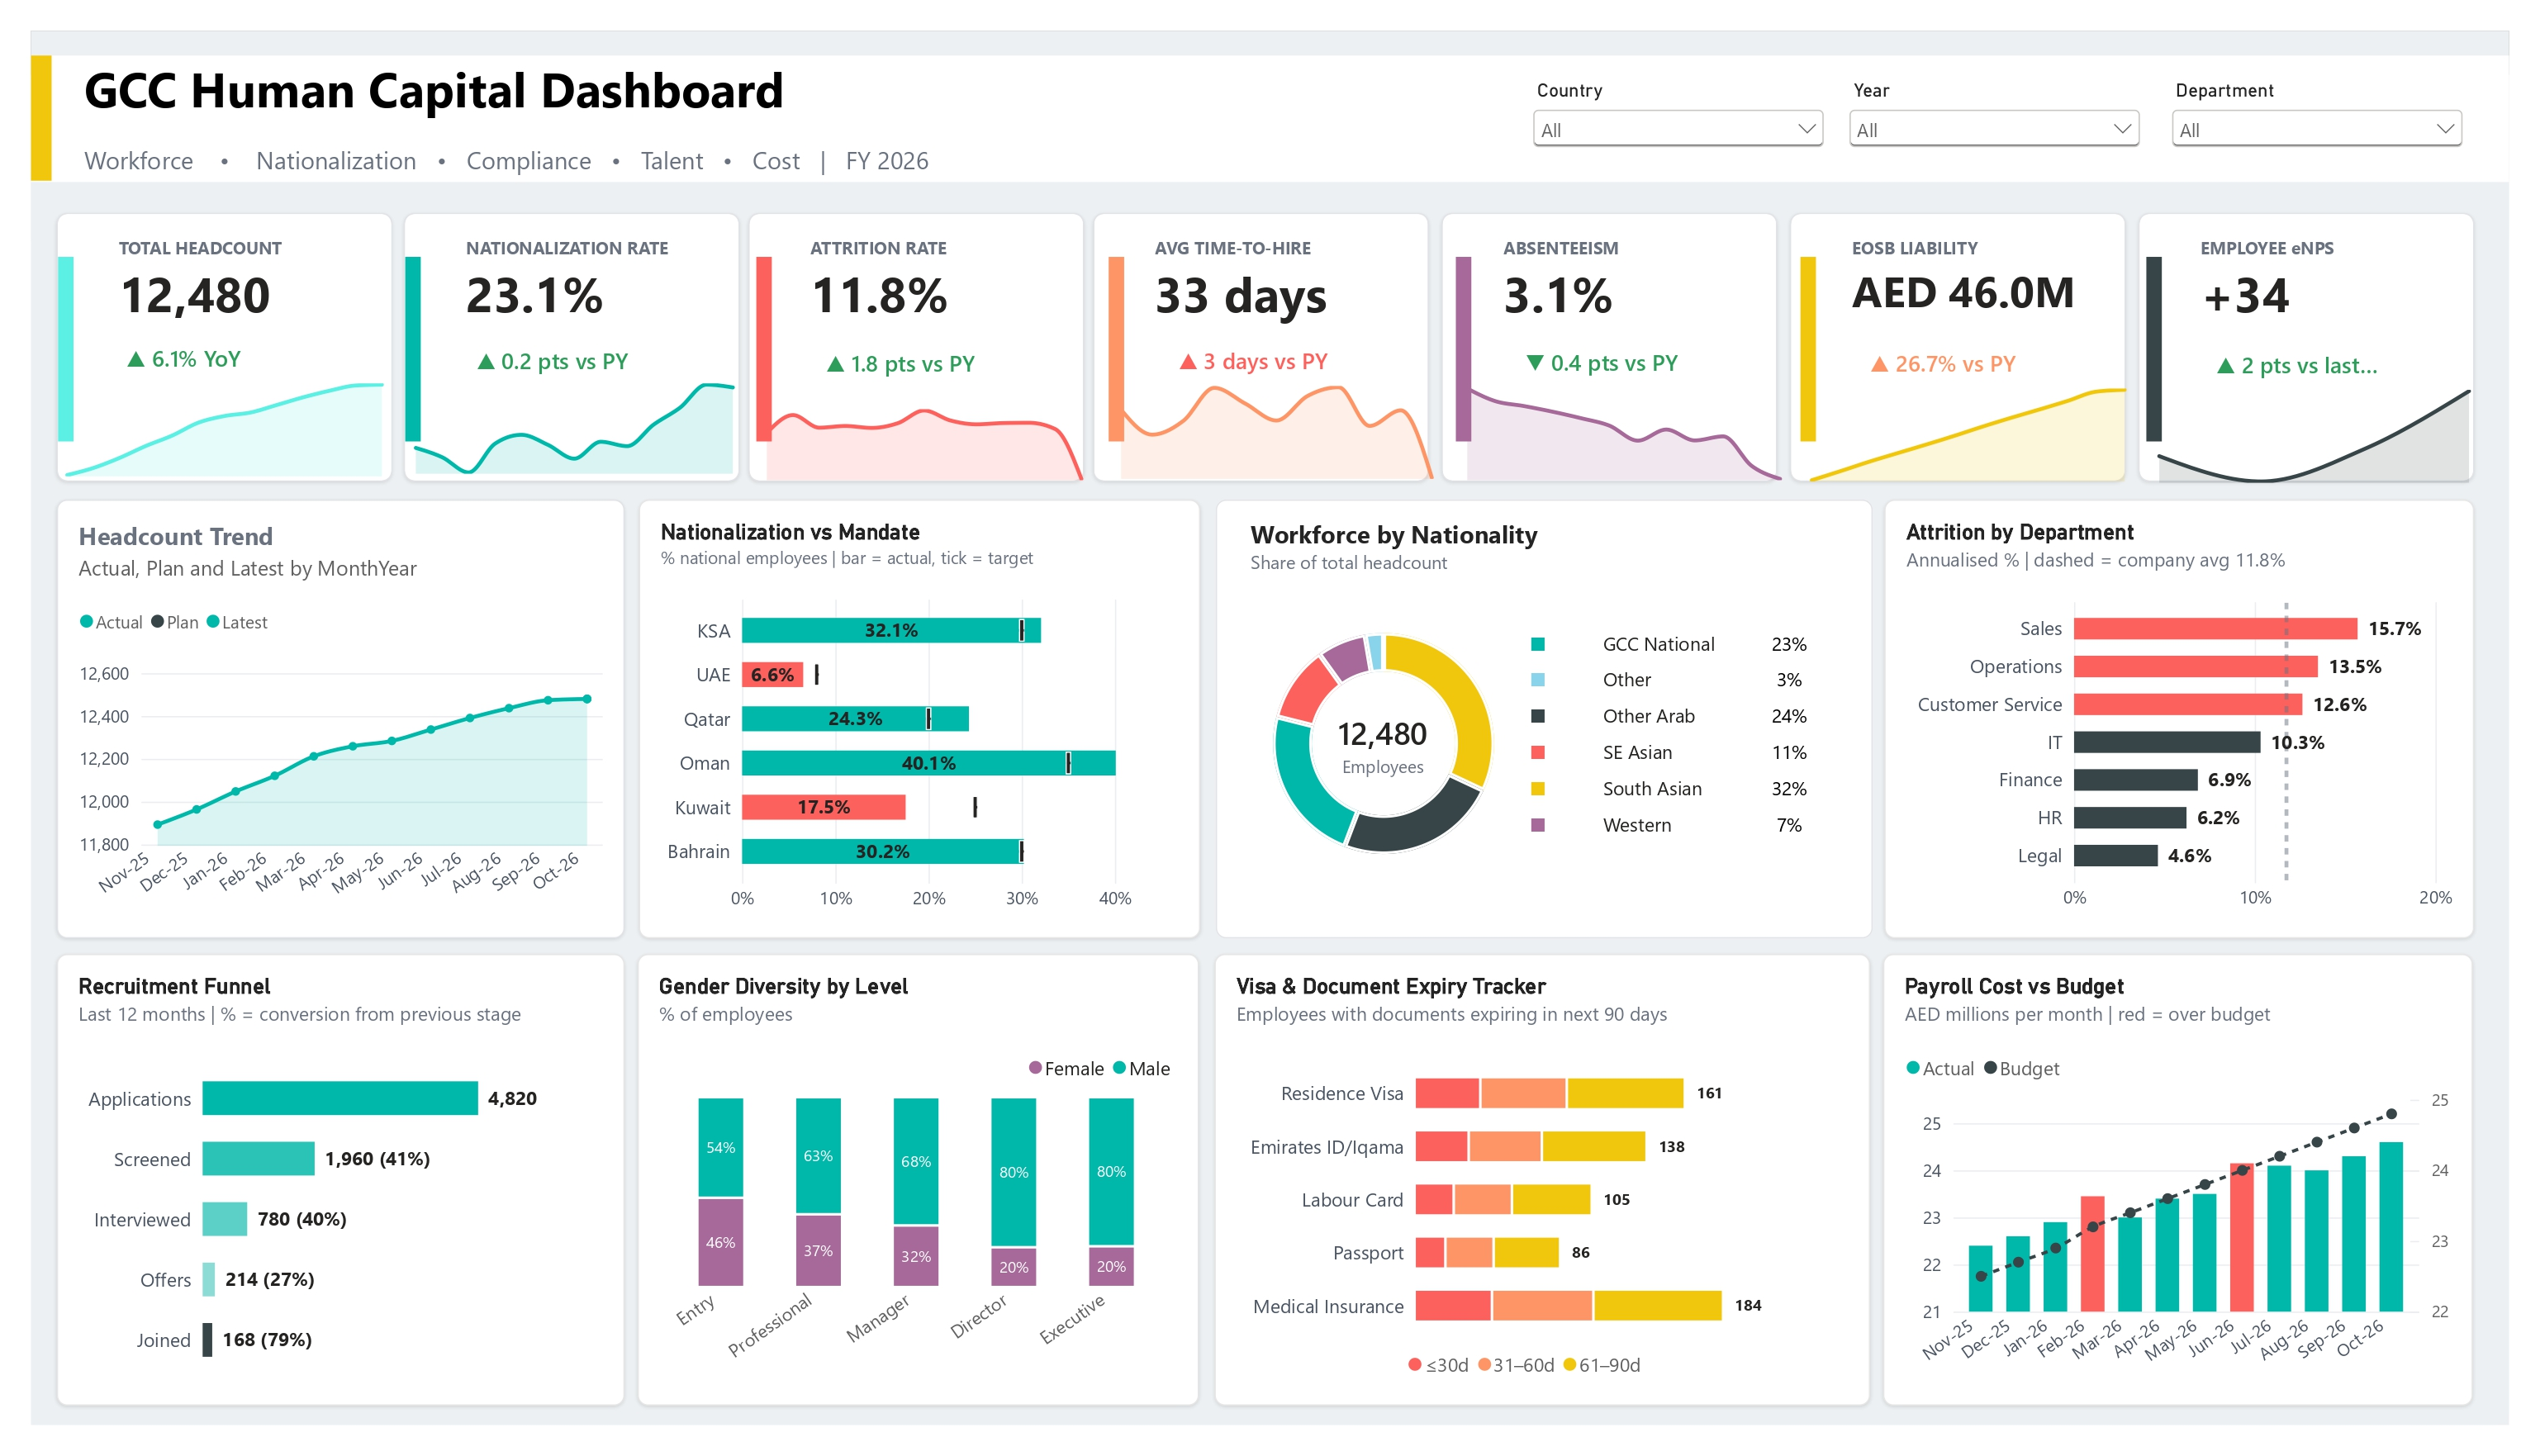

Layout of this report page (visuals, bound fields, positions):
{"tool":"powerbi","page":{"name":"Page 1","canvas":[1920,1080],"ordinal":0},"visuals":[{"type":"shape","box":[0,18.9,1920,98],"z":0},{"type":"shape","box":[0,18.9,16,97.4],"z":1000},{"type":"textbox","title":"GCC Human Capital Dashboard","box":[40.7,18.9,754.6,97.4],"z":2000},{"type":"slicer","fields":{"Values":["Dim_Country.Country"]},"box":[1158.8,37.8,235,60],"z":3000,"group":"g9"},{"type":"slicer","fields":{"Values":["Dim_Date.Year"]},"box":[1403.8,37.8,235,60],"z":4000,"group":"g9"},{"type":"slicer","fields":{"Values":["Dim_Department.Department"]},"box":[1653.8,37.8,235,60],"z":5000,"group":"g9"},{"type":"cardVisual","fields":{"Data":["_Measures.Headcount Text"]},"box":[20.1,140.5,260,208],"z":6000,"group":"g2"},{"type":"cardVisual","fields":{"Data":["_Measures.Attrition %"]},"box":[556.3,140.5,260,208],"z":6000,"group":"g4"},{"type":"cardVisual","fields":{"Data":["_Measures.eNPS Text"]},"box":[1633.3,140.5,260,208],"z":6000,"group":"g8"},{"type":"areaChart","title":"Headcount Trend","fields":{"Category":["Dim_Date.MonthYear"],"Y":["_Measures.Headcount","_Measures.Plan Headcount","_Measures.Headcount Last Label"]},"box":[20,362.6,440,340],"z":6000},{"type":"shape","box":[20.7,174.5,12,143.3],"z":7000,"group":"g2"},{"type":"shape","box":[562.3,174.5,12,143],"z":7000,"group":"g4"},{"type":"shape","box":[1639.6,174.5,12,143],"z":7000,"group":"g8"},{"type":"clusteredBarChart","title":"Nationalization vs Mandate","fields":{"Category":["Dim_Country.Country"],"Y":["_Measures.Nationalization %"]},"box":[471.2,362.6,435,340],"z":7000},{"type":"areaChart","fields":{"Category":["Dim_Date.MonthYear"],"Y":["_Measures.Headcount"]},"box":[20.1,264.6,260,80],"z":8000,"group":"g2"},{"type":"areaChart","fields":{"Category":["eNPS.SurveyDate.Variation.Date Hierarchy.Year","eNPS.SurveyDate.Variation.Date Hierarchy.Quarter","eNPS.SurveyDate.Variation.Date Hierarchy.Month","eNPS.SurveyDate.Variation.Date Hierarchy.Day"],"Y":["_Measures.eNPS Trend"]},"box":[1639.6,269.3,260,80],"z":8000,"group":"g8"},{"type":"areaChart","fields":{"Category":["Dim_Date.MonthYear"],"Y":["_Measures.Monthly Attrition %"]},"box":[562.3,284.5,260,63.3],"z":8000,"group":"g4"},{"type":"group","id":"g1","title":"Group 1","box":[917.8,362.6,518.3,340],"z":8000},{"type":"cardVisual","fields":{"Data":["_Measures.Headcount YoY Label"]},"box":[54.1,238.6,146,30],"z":9000,"group":"g2"},{"type":"cardVisual","fields":{"Data":["_Measures.Attrition Delta Label"]},"box":[596.5,242.4,146,30],"z":9000,"group":"g4"},{"type":"cardVisual","fields":{"Data":["_Measures.eNPS Delta Label"]},"box":[1673.6,243.3,146,30],"z":9000,"group":"g8"},{"type":"clusteredBarChart","title":"Attrition by Department","fields":{"Category":["Dim_Department.Department"],"Y":["_Measures.Attrition %"]},"box":[1436.2,362.6,456.7,340],"z":9000},{"type":"cardVisual","title":"NATIONALIZATION RATE","fields":{"Data":["_Measures.Nationalization %"]},"box":[289.3,140.5,260,208],"z":10000,"group":"g3"},{"type":"cardVisual","fields":{"Data":["_Measures.Avg Time to Hire Text"]},"box":[823.3,140.5,260,208],"z":10000,"group":"g5"},{"type":"clusteredBarChart","title":"Recruitment Funnel","fields":{"Category":["Dim_Stage.Stage"],"Y":["_Measures.Funnel Count"]},"box":[20,714.9,440,350],"z":10000},{"type":"shape","box":[835.4,174.5,12,143],"z":11000,"group":"g5"},{"type":"areaChart","fields":{"Category":["Dim_Date.MonthYear"],"Y":["_Measures.Nationalization %"]},"box":[290.6,264.5,261.7,78.3],"z":11000,"group":"g3"},{"type":"columnChart","title":"Gender Diversity by Level","fields":{"Category":["Dim_JobLevel.JobLevel"],"Series":["Employees.Gender"],"Y":["_Measures.Gender Share %"]},"box":[470,714.9,435,350],"z":11000},{"type":"cardVisual","fields":{"Data":["_Measures.Nationalization Delta Label"]},"box":[324.9,240.6,146,30],"z":12000,"group":"g3"},{"type":"areaChart","fields":{"Category":["Dim_Date.MonthYear"],"Y":["_Measures.Avg Time to Hire"]},"box":[835.4,266.6,260,80],"z":12000,"group":"g5"},{"type":"barChart","title":"Visa & Document Expiry Tracker","fields":{"Category":["Doc_Expiry.DocName"],"Y":["_Measures.Exp 30d","_Measures.Exp 60d","_Measures.Exp 90d","_Measures.Exp Total"]},"box":[916.7,714.9,508.3,350],"z":12000},{"type":"cardVisual","fields":{"Data":["_Measures.Time to Hire Delta Label"]},"box":[869.4,240.6,146,30],"z":13000,"group":"g5"},{"type":"lineClusteredColumnComboChart","title":"Payroll Cost vs Budget","fields":{"Category":["Dim_Date.MonthYear"],"Y":["_Measures.Actual Payroll (AED M)"],"Y2":["_Measures.Budget Payroll (AED M)"]},"box":[1435,714.9,457,350],"z":13000},{"type":"group","id":"g2","title":"Group 2","box":[20.1,140.5,260,208],"z":14000},{"type":"cardVisual","fields":{"Data":["_Measures.Absenteeism %"]},"box":[1093.3,140.5,260,208],"z":14000,"group":"g6"},{"type":"group","id":"g3","title":"Group 3","box":[289.3,140.5,263,208],"z":15000},{"type":"shape","box":[1103.9,174.5,12,143],"z":15000,"group":"g6"},{"type":"group","id":"g4","title":"Group 4","box":[556.3,140.5,266,208],"z":16000},{"type":"areaChart","fields":{"Category":["Dim_Date.MonthYear"],"Y":["_Measures.Absenteeism %"]},"box":[1103.9,267.5,260,80],"z":16000,"group":"g6"},{"type":"group","id":"g5","title":"Group 5","box":[823.3,140.5,272.1,208],"z":17000},{"type":"cardVisual","fields":{"Data":["_Measures.Absenteeism Delta Label"]},"box":[1137.9,241.5,146,30],"z":17000,"group":"g6"},{"type":"group","id":"g6","title":"Group 6","box":[1093.3,140.5,270.6,208],"z":18000},{"type":"cardVisual","fields":{"Data":["_Measures.EOSB Text"]},"box":[1363.3,140.5,260,208],"z":18000,"group":"g7"},{"type":"group","id":"g7","title":"Group 7","box":[1363.3,140.5,268.1,208],"z":19000},{"type":"shape","box":[1371.4,174.5,12,143],"z":19000,"group":"g7"},{"type":"group","id":"g8","title":"Group 8","box":[1633.3,140.5,266.3,208.8],"z":20000},{"type":"areaChart","fields":{"Category":["Dim_Date.MonthYear"],"Y":["_Measures.EOSB Trend (AED M)"]},"box":[1371.4,268.4,260,80],"z":20000,"group":"g7"},{"type":"group","id":"g9","title":"Group 9","box":[1158.8,37.8,729.9,59.6],"z":20001},{"type":"cardVisual","fields":{"Data":["_Measures.EOSB Delta Label"]},"box":[1405.4,242.4,146,30],"z":21000,"group":"g7"},{"type":"shape","box":[290.6,174.5,12,143.3],"z":33000,"group":"g3"},{"type":"shape","box":[917.8,362.6,508.6,340.1],"z":36000,"group":"g1"},{"type":"textbox","title":"Workforce by Nationality","box":[944.3,376.7,243.7,74.3],"z":37000,"group":"g1"},{"type":"donutChart","fields":{"Category":["Employees.NationalityGroup"],"Y":["_Measures.Headcount"]},"box":[924.5,402.4,246.5,300],"z":38000,"group":"g1"},{"type":"cardVisual","fields":{"Data":["_Measures.Headcount Text"]},"box":[986.8,522.4,121.8,60],"z":39000,"group":"g1"},{"type":"tableEx","fields":{"Values":["_Measures.Nat Bullet","Employees.NationalityGroup","_Measures.Nationality Share %"]},"box":[1139.2,416.7,295.8,242.4],"z":40000,"group":"g1"}]}

Visuals, with their boxes on the page's 1920x1080 design canvas (x1, y1, x2, y2). These are canvas units, not pixel positions in the 2540x1456 screenshot, which may show the page scaled, cropped or inside an application window:
shape: left=0, top=19, right=1920, bottom=117
shape: left=0, top=19, right=16, bottom=116
"GCC Human Capital Dashboard" textbox: left=41, top=19, right=795, bottom=116
slicer - Dim_Country.Country: left=1159, top=38, right=1394, bottom=98
slicer - Dim_Date.Year: left=1404, top=38, right=1639, bottom=98
slicer - Dim_Department.Department: left=1654, top=38, right=1889, bottom=98
cardVisual - _Measures.Headcount Text: left=20, top=140, right=280, bottom=348
cardVisual - _Measures.Attrition %: left=556, top=140, right=816, bottom=348
cardVisual - _Measures.eNPS Text: left=1633, top=140, right=1893, bottom=348
"Headcount Trend" areaChart: left=20, top=363, right=460, bottom=703
shape: left=21, top=174, right=33, bottom=318
shape: left=562, top=174, right=574, bottom=318
shape: left=1640, top=174, right=1652, bottom=318
"Nationalization vs Mandate" clusteredBarChart: left=471, top=363, right=906, bottom=703
areaChart - Dim_Date.MonthYear x _Measures.Headcount: left=20, top=265, right=280, bottom=345
areaChart - eNPS.SurveyDate.Variation.Date Hierarchy.Year x eNPS.SurveyDate.Variation.Date Hierarchy.Quarter: left=1640, top=269, right=1900, bottom=349
areaChart - Dim_Date.MonthYear x _Measures.Monthly Attrition %: left=562, top=284, right=822, bottom=348
"Group 1" group: left=918, top=363, right=1436, bottom=703
cardVisual - _Measures.Headcount YoY Label: left=54, top=239, right=200, bottom=269
cardVisual - _Measures.Attrition Delta Label: left=596, top=242, right=742, bottom=272
cardVisual - _Measures.eNPS Delta Label: left=1674, top=243, right=1820, bottom=273
"Attrition by Department" clusteredBarChart: left=1436, top=363, right=1893, bottom=703
"NATIONALIZATION RATE" cardVisual: left=289, top=140, right=549, bottom=348
cardVisual - _Measures.Avg Time to Hire Text: left=823, top=140, right=1083, bottom=348
"Recruitment Funnel" clusteredBarChart: left=20, top=715, right=460, bottom=1065
shape: left=835, top=174, right=847, bottom=318
areaChart - Dim_Date.MonthYear x _Measures.Nationalization %: left=291, top=264, right=552, bottom=343
"Gender Diversity by Level" columnChart: left=470, top=715, right=905, bottom=1065
cardVisual - _Measures.Nationalization Delta Label: left=325, top=241, right=471, bottom=271
areaChart - Dim_Date.MonthYear x _Measures.Avg Time to Hire: left=835, top=267, right=1095, bottom=347
"Visa & Document Expiry Tracker" barChart: left=917, top=715, right=1425, bottom=1065
cardVisual - _Measures.Time to Hire Delta Label: left=869, top=241, right=1015, bottom=271
"Payroll Cost vs Budget" lineClusteredColumnComboChart: left=1435, top=715, right=1892, bottom=1065
"Group 2" group: left=20, top=140, right=280, bottom=348
cardVisual - _Measures.Absenteeism %: left=1093, top=140, right=1353, bottom=348
"Group 3" group: left=289, top=140, right=552, bottom=348
shape: left=1104, top=174, right=1116, bottom=318
"Group 4" group: left=556, top=140, right=822, bottom=348
areaChart - Dim_Date.MonthYear x _Measures.Absenteeism %: left=1104, top=268, right=1364, bottom=348
"Group 5" group: left=823, top=140, right=1095, bottom=348
cardVisual - _Measures.Absenteeism Delta Label: left=1138, top=242, right=1284, bottom=272
"Group 6" group: left=1093, top=140, right=1364, bottom=348
cardVisual - _Measures.EOSB Text: left=1363, top=140, right=1623, bottom=348
"Group 7" group: left=1363, top=140, right=1631, bottom=348
shape: left=1371, top=174, right=1383, bottom=318
"Group 8" group: left=1633, top=140, right=1900, bottom=349
areaChart - Dim_Date.MonthYear x _Measures.EOSB Trend (AED M): left=1371, top=268, right=1631, bottom=348
"Group 9" group: left=1159, top=38, right=1889, bottom=97
cardVisual - _Measures.EOSB Delta Label: left=1405, top=242, right=1551, bottom=272
shape: left=291, top=174, right=303, bottom=318
shape: left=918, top=363, right=1426, bottom=703
"Workforce by Nationality" textbox: left=944, top=377, right=1188, bottom=451
donutChart - Employees.NationalityGroup x _Measures.Headcount: left=924, top=402, right=1171, bottom=702
cardVisual - _Measures.Headcount Text: left=987, top=522, right=1109, bottom=582
tableEx - _Measures.Nat Bullet x Employees.NationalityGroup: left=1139, top=417, right=1435, bottom=659
